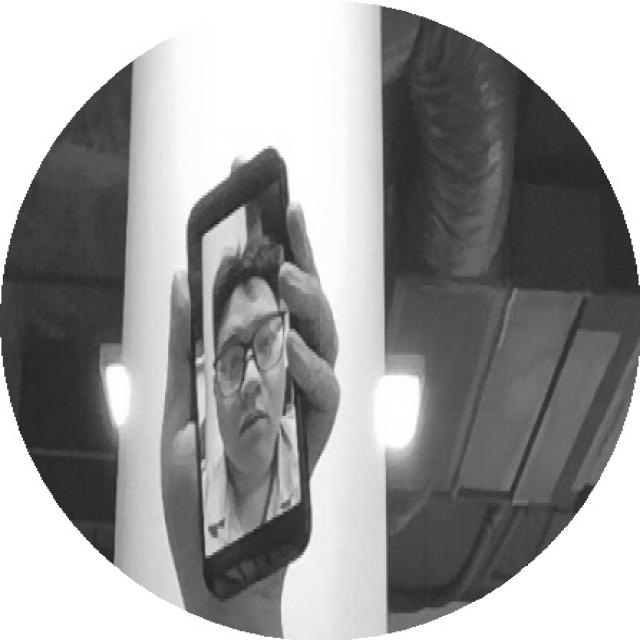fake: (121, 141, 391, 601), (188, 243, 300, 486)
